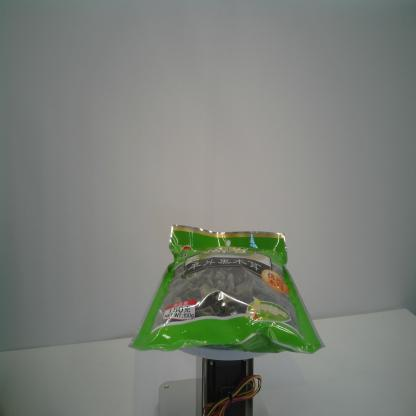Dried Food: (126, 221, 326, 357)
